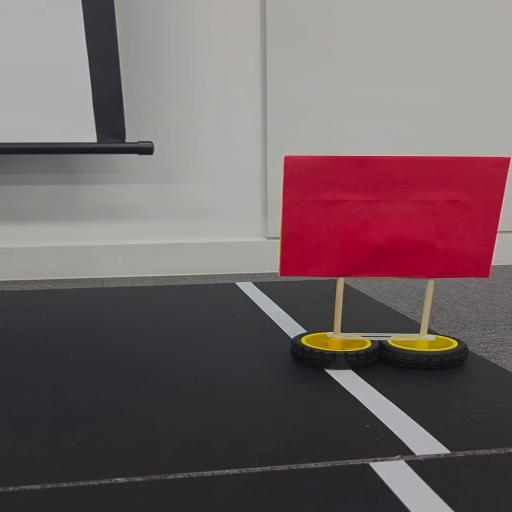Sign_A: (262, 152, 512, 377)
